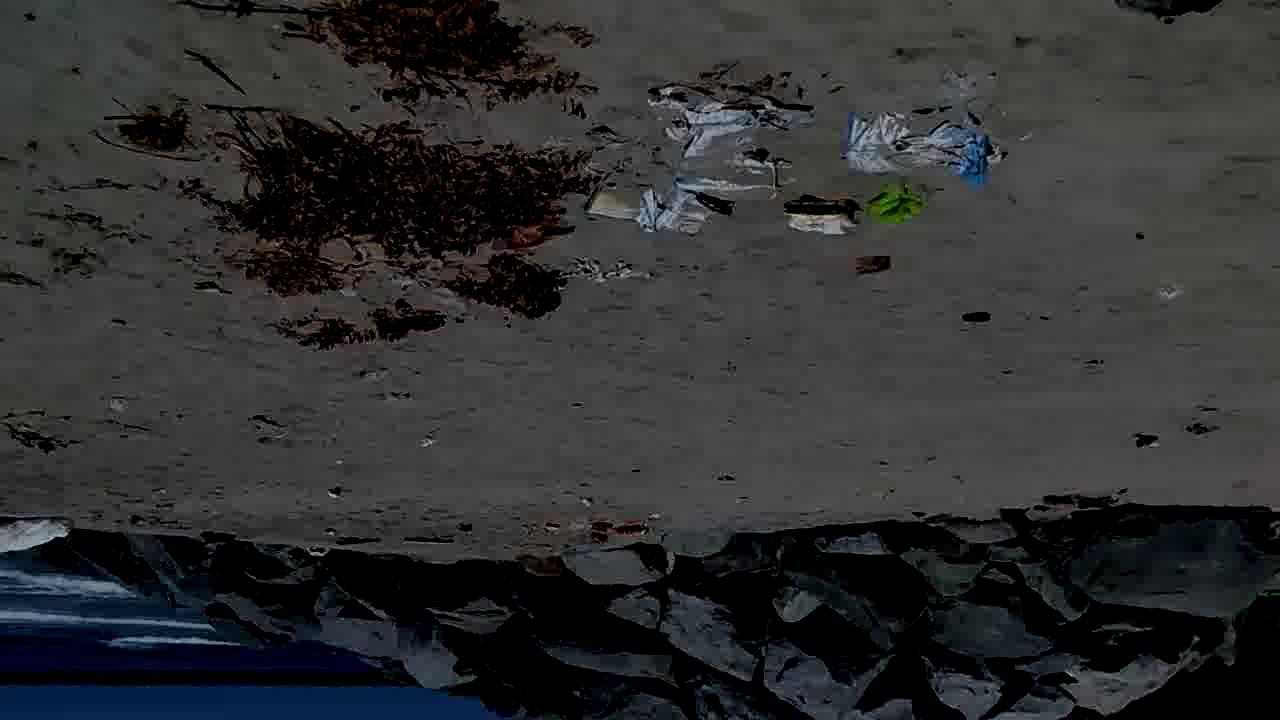obj: (243, 112, 579, 263), (254, 1, 541, 101), (839, 98, 1012, 180), (650, 68, 810, 153), (634, 172, 771, 234), (298, 311, 444, 360), (469, 260, 571, 316), (120, 103, 198, 168), (253, 254, 348, 300), (782, 191, 861, 232), (1, 513, 67, 557), (863, 185, 919, 225), (543, 522, 652, 535), (1040, 494, 1126, 507), (850, 253, 890, 277), (1134, 432, 1163, 448)
sand/background: (1, 504, 1279, 719)
